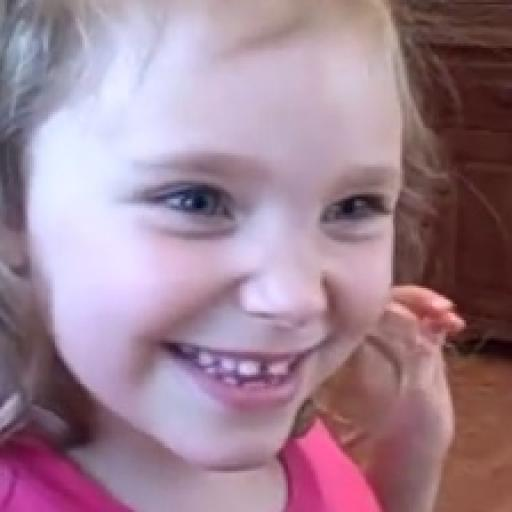Autism: (0, 0, 478, 503)
